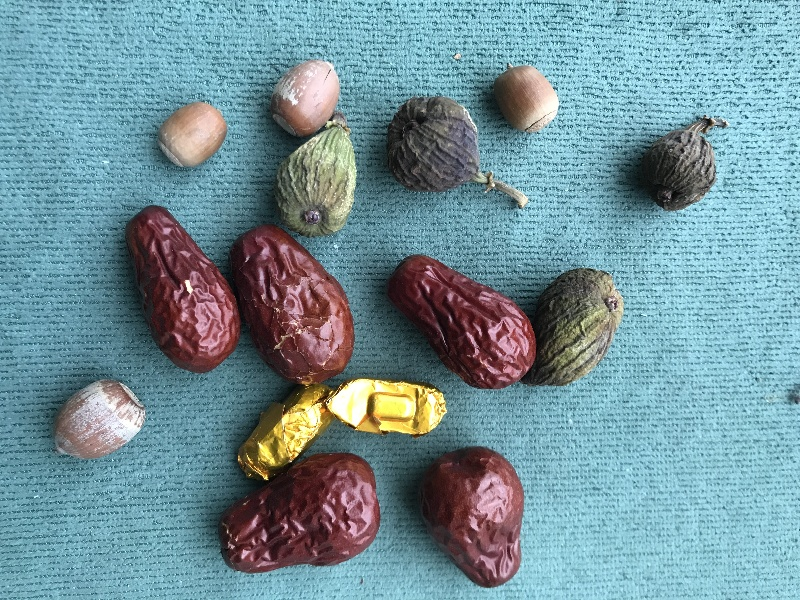date: (386, 254, 538, 391), (230, 223, 355, 387), (220, 452, 382, 577), (125, 205, 243, 375), (417, 446, 524, 587)
fig: (387, 96, 530, 212), (526, 268, 625, 390), (274, 114, 358, 238), (640, 116, 729, 211)
hazelnut: (51, 378, 149, 460), (264, 59, 343, 137), (155, 102, 229, 173), (493, 62, 561, 132)
